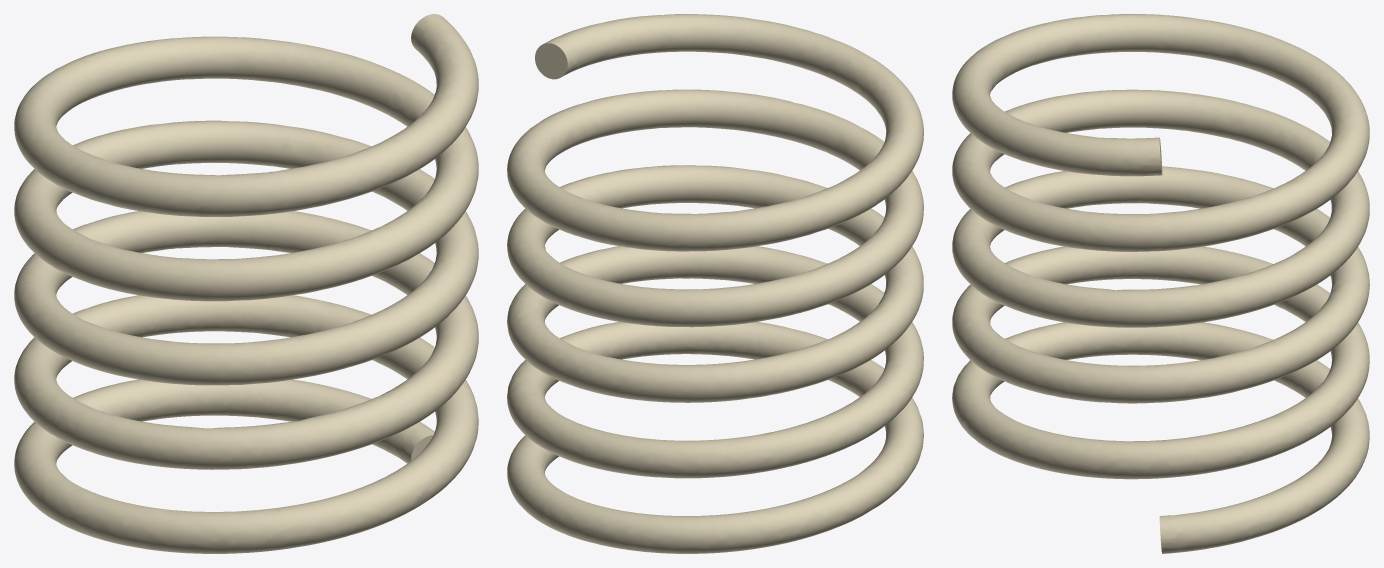
File: evp-follower-spring.glb
The picture shows the model from 3 angles, left to right: view 1: azimuth 30°, elevation 25°; view 2: azimuth 150°, elevation 25°; view 3: azimuth 270°, elevation 25°; orthographic projection. The views are drawn at different scales.
Visible parts, largest first — view 1: world; view 2: world; view 3: world.
Part boxes in pixels (left/top/right/bottom): world: left=14, top=14, right=478, bottom=553; world: left=507, top=14, right=923, bottom=553; world: left=952, top=14, right=1369, bottom=553.
Size of the model in its own units: 0.011 by 0.012 by 0.011.
